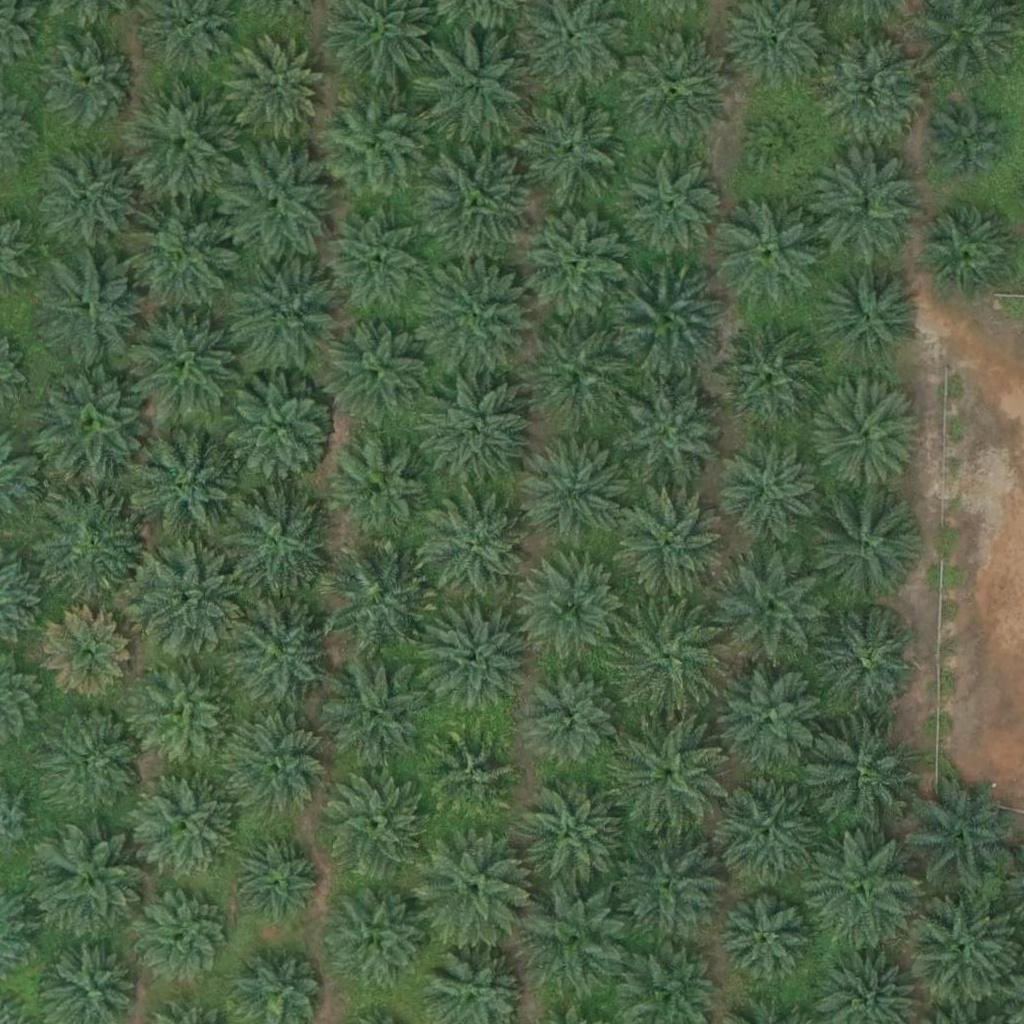Kelapa_Sawit: (815, 30, 928, 144), (316, 87, 429, 201), (421, 145, 534, 259), (421, 263, 534, 377), (520, 319, 633, 433), (521, 434, 634, 548), (907, 781, 1020, 895), (420, 26, 533, 139), (29, 27, 142, 140), (30, 140, 143, 253), (36, 253, 149, 366), (36, 367, 149, 480), (126, 308, 239, 421), (128, 434, 241, 547), (131, 544, 244, 657), (417, 376, 530, 489), (424, 494, 537, 607), (517, 553, 630, 666), (713, 197, 826, 310), (710, 319, 823, 432), (809, 154, 922, 267), (813, 258, 926, 371), (813, 381, 926, 494), (808, 493, 921, 606), (612, 720, 725, 833), (611, 825, 724, 938), (514, 774, 627, 887), (223, 597, 336, 710), (522, 209, 634, 323), (614, 374, 726, 488), (613, 491, 725, 605), (716, 552, 828, 666), (907, 887, 1019, 1001), (810, 720, 922, 834), (619, 35, 731, 148), (37, 489, 149, 602), (122, 86, 234, 199), (125, 202, 237, 315), (224, 146, 336, 259), (230, 258, 342, 371), (224, 370, 336, 483), (219, 483, 331, 596), (323, 313, 435, 426), (320, 543, 432, 656), (516, 91, 628, 204), (614, 267, 726, 380), (608, 600, 720, 713), (807, 834, 919, 947), (711, 779, 823, 892), (520, 881, 632, 994), (418, 830, 530, 943), (317, 769, 429, 882), (713, 664, 825, 777), (417, 597, 529, 710), (321, 656, 433, 769), (39, 832, 151, 945), (228, 35, 328, 136), (332, 436, 432, 537), (624, 156, 724, 257), (328, 889, 428, 990), (225, 711, 325, 812), (136, 662, 236, 763), (45, 708, 145, 809), (327, 214, 427, 314), (719, 439, 819, 539), (818, 612, 918, 712), (135, 774, 235, 874), (133, 885, 233, 985), (924, 210, 1012, 299), (428, 731, 516, 820), (43, 609, 131, 697), (720, 898, 807, 986), (230, 835, 317, 923), (529, 674, 616, 762), (933, 110, 1008, 186), (750, 113, 812, 176)
